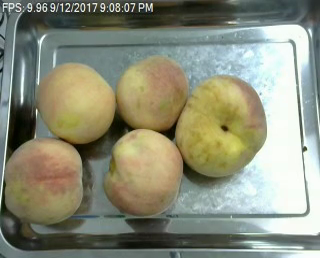Peach: (174, 76, 267, 177), (4, 136, 84, 227), (104, 128, 183, 217), (35, 60, 115, 144), (115, 54, 189, 132)
